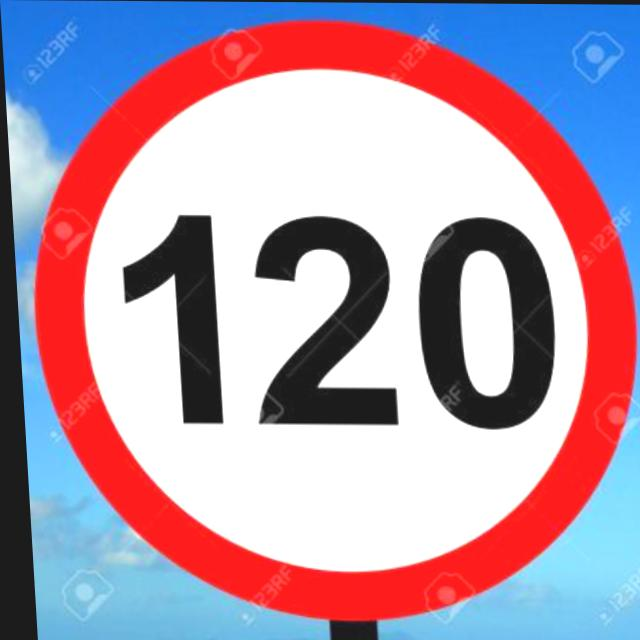limit120: (6, 9, 640, 637)
